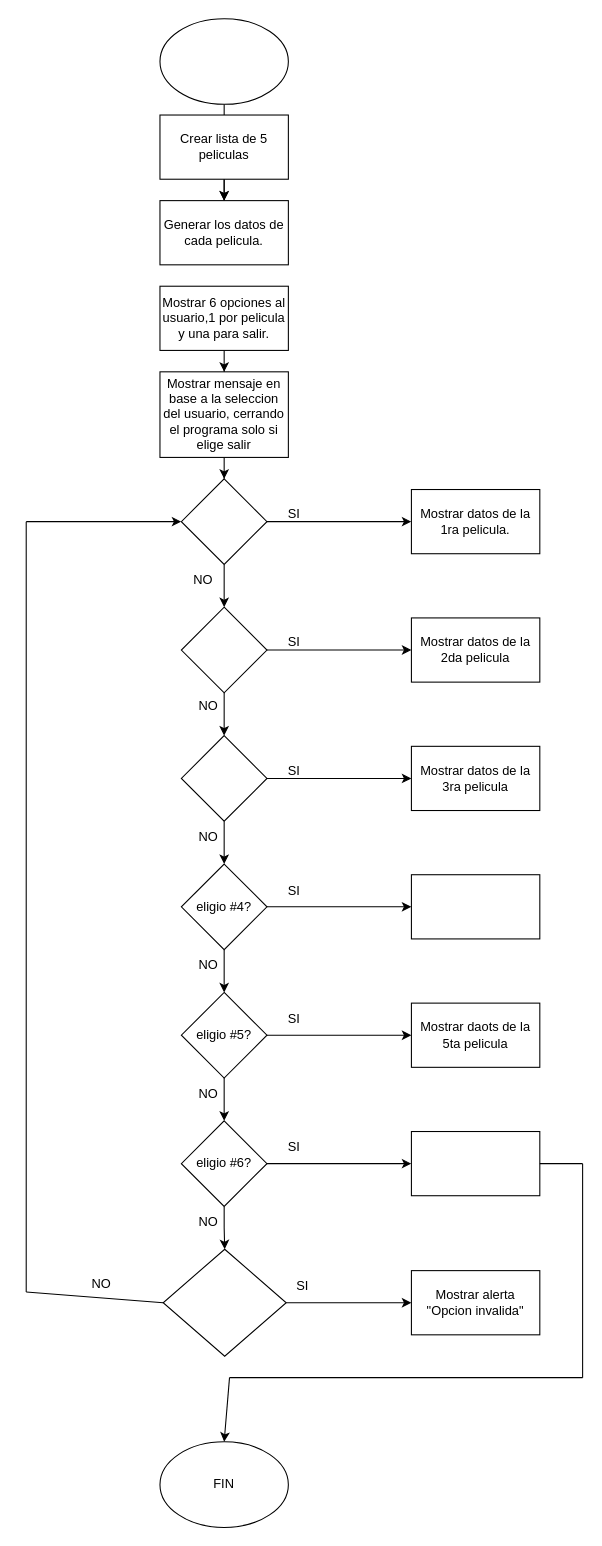
The diagram is 602 pixels wide and 1546 high, and some of its shapes have lost their labels. Each missing label, with the box of its shape:
eligio #1?: (180, 478, 267, 564)
eligio #2?: (180, 606, 267, 693)
eligio #3?: (180, 735, 267, 821)
ingreso opcion invalida?: (162, 1248, 286, 1356)
Inicio: (159, 18, 288, 104)
Mostrar datos de la 4ta pelicula: (410, 874, 540, 939)
Mostrar mensaje de despedida y cerrar programa: (410, 1130, 540, 1196)
